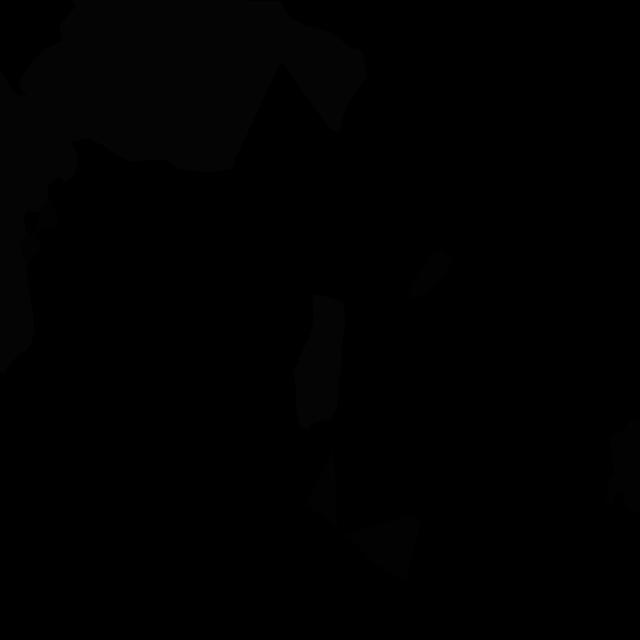cardboard: (345, 516, 421, 582), (606, 417, 640, 513), (305, 449, 337, 529), (406, 251, 454, 299), (19, 230, 42, 271), (36, 200, 58, 230)
soft_plastic: (19, 0, 367, 173), (0, 70, 78, 373), (294, 295, 345, 429)
